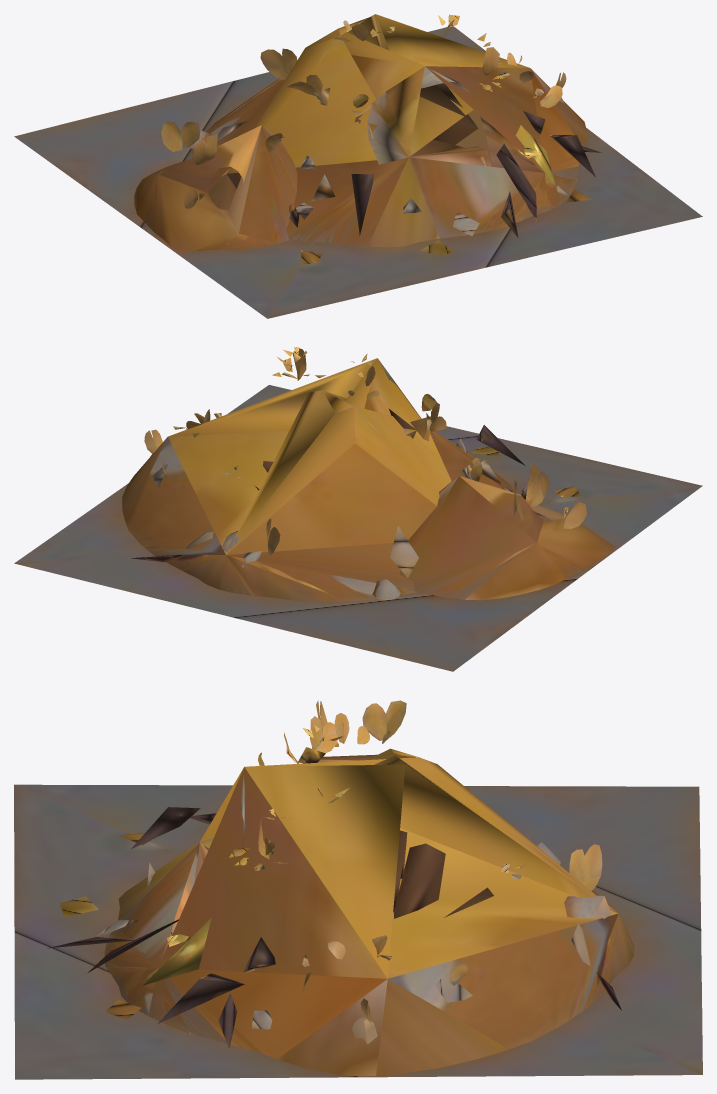
File: mu-terrier-semis.glb
The picture shows the model from 3 angles, top to bottom: view 1: azimuth 30°, elevation 25°; view 2: azimuth 150°, elevation 25°; view 3: azimuth 270°, elevation 25°; orthographic projection. The views are drawn at different scales.
Parts seen in each view (by area): view 1: mu-terrier-semis; view 2: mu-terrier-semis; view 3: mu-terrier-semis.
Part boxes in pixels (bbox=[...]): mu-terrier-semis: bbox=[14, 14, 702, 318]; mu-terrier-semis: bbox=[14, 347, 702, 671]; mu-terrier-semis: bbox=[14, 700, 702, 1079].
Bounding box in the file's own units: 1.99 × 0.6885 × 1.98.
1 material, 1 textured.
